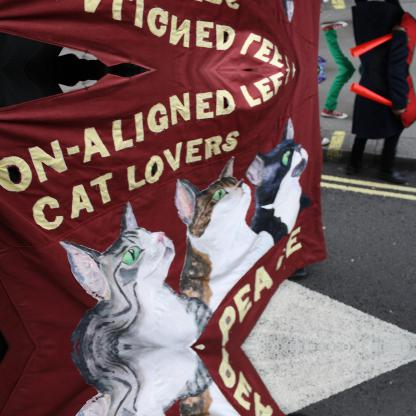Cat: (58, 198, 214, 346), (176, 152, 274, 310), (58, 346, 214, 415), (247, 114, 309, 234), (176, 382, 275, 415), (247, 0, 310, 25)
